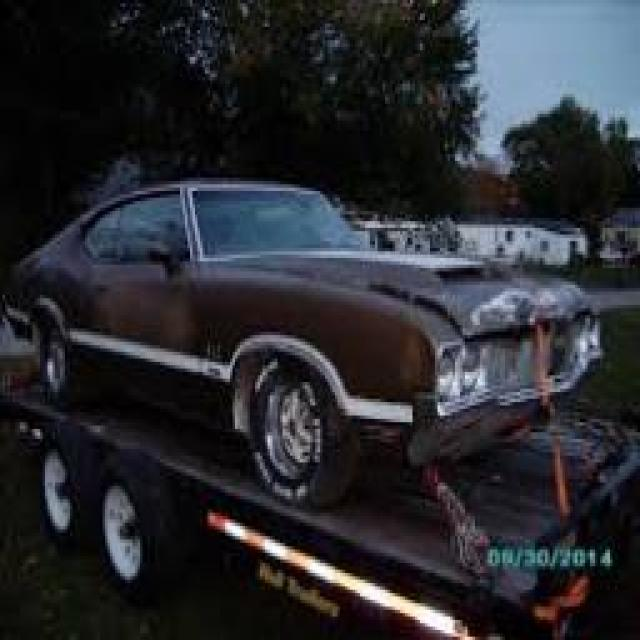Bonnet: (211, 241, 597, 340)
Bumper: (412, 361, 597, 457)
